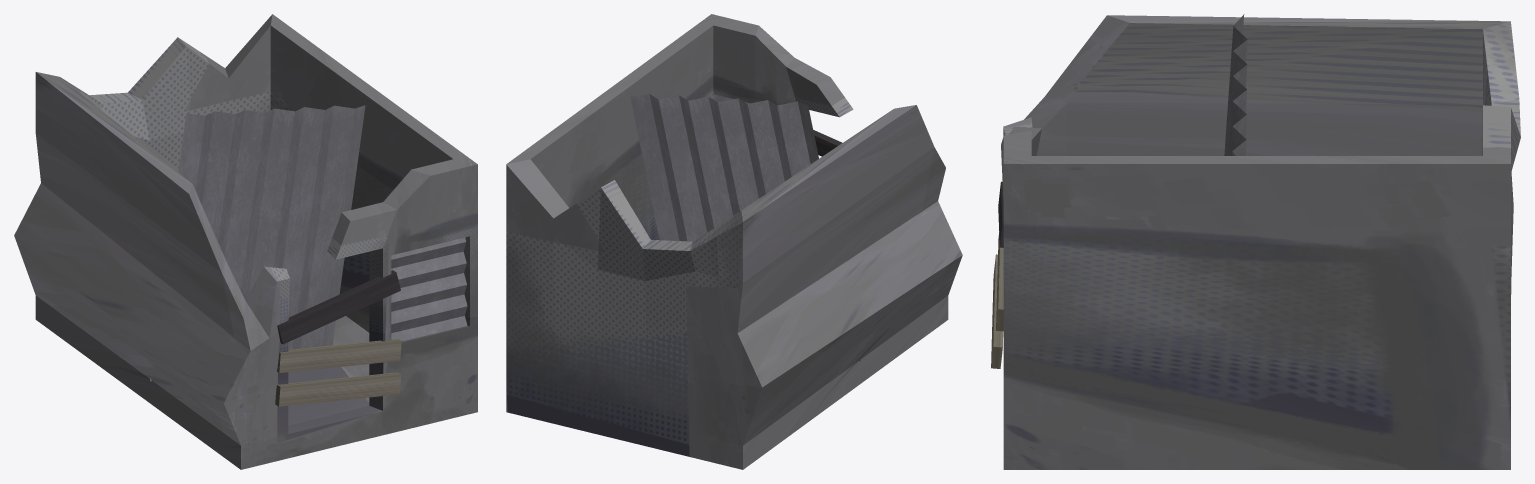
File: destruido 1.fbx
3 views of the same model, side by side, from view 1: azimuth 30°, elevation 25°; view 2: azimuth 150°, elevation 25°; view 3: azimuth 270°, elevation 25° (orthographic). The views are drawn at different scales.
Parts seen in each view (by area): view 1: Cube.004, Plane.042, Plane.041, Cube.005, Cube.023, Cube.024; view 2: Cube.004, Plane.042; view 3: Cube.004, Plane.042, Cube.023, Cube.024.
Part boxes in pixels (x1=…): Cube.004: x1=14, y1=14, x2=477, y2=469; Plane.042: x1=150, y1=105, x2=365, y2=381; Plane.041: x1=391, y1=237, x2=467, y2=341; Cube.005: x1=277, y1=270, x2=400, y2=344; Cube.023: x1=275, y1=372, x2=401, y2=406; Cube.024: x1=277, y1=339, x2=401, y2=372; Cube.004: x1=506, y1=14, x2=962, y2=469; Plane.042: x1=630, y1=93, x2=860, y2=361; Cube.004: x1=1001, y1=15, x2=1520, y2=469; Plane.042: x1=1224, y1=14, x2=1247, y2=155; Cube.023: x1=991, y1=254, x2=1003, y2=368; Cube.024: x1=996, y1=232, x2=1003, y2=331.
Size of the model in its own units: 217 by 230 by 314.
Materials: 4 (4 with a texture image).
